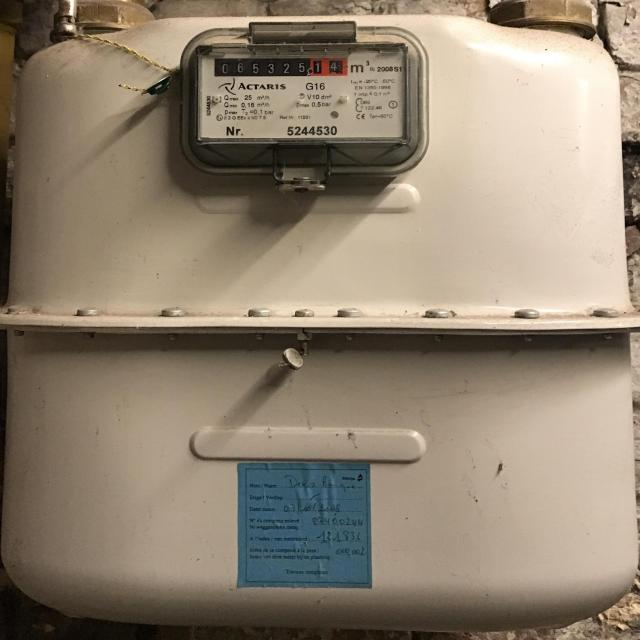gaz_meter: (196, 49, 410, 142)
indication: (213, 53, 348, 78)
